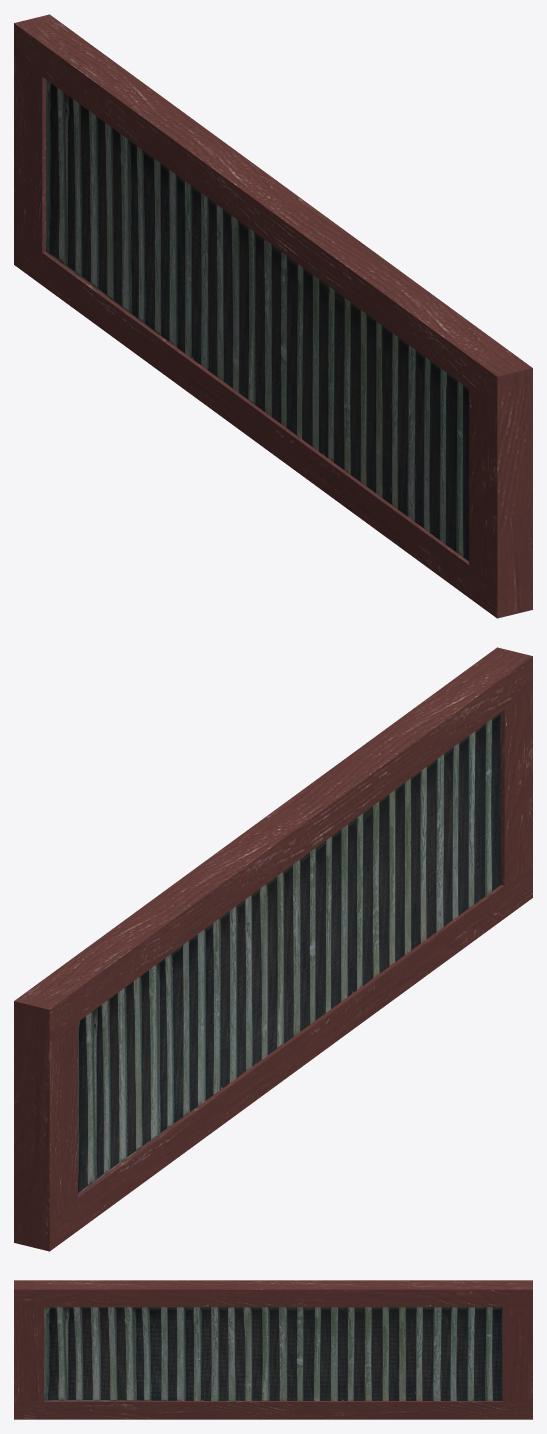
The model's file is SM_Geumsan_Mi_Wall_L.fbx.
3 views of the same model, one above another, from view 1: azimuth 30°, elevation 25°; view 2: azimuth 150°, elevation 25°; view 3: azimuth 270°, elevation 25° (orthographic). The views are drawn at different scales.
Parts seen in each view (by area): view 1: SM_Geumsan_Mi_Wall_L; view 2: SM_Geumsan_Mi_Wall_L; view 3: SM_Geumsan_Mi_Wall_L.
Part boxes in pixels (x1,y1,x2,y2): SM_Geumsan_Mi_Wall_L: (14, 14, 532, 618); SM_Geumsan_Mi_Wall_L: (14, 647, 532, 1251); SM_Geumsan_Mi_Wall_L: (14, 1280, 532, 1419).
Size of the model in its own units: 15 by 96.9 by 351.
